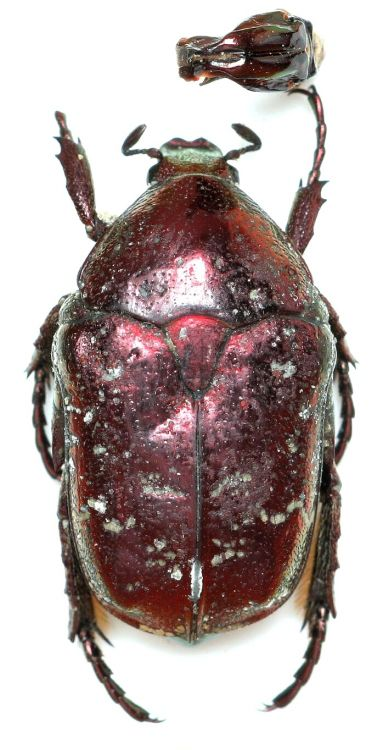Protaetia _orientalis: (17, 82, 356, 731)
